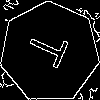T: (24, 27, 78, 73)
